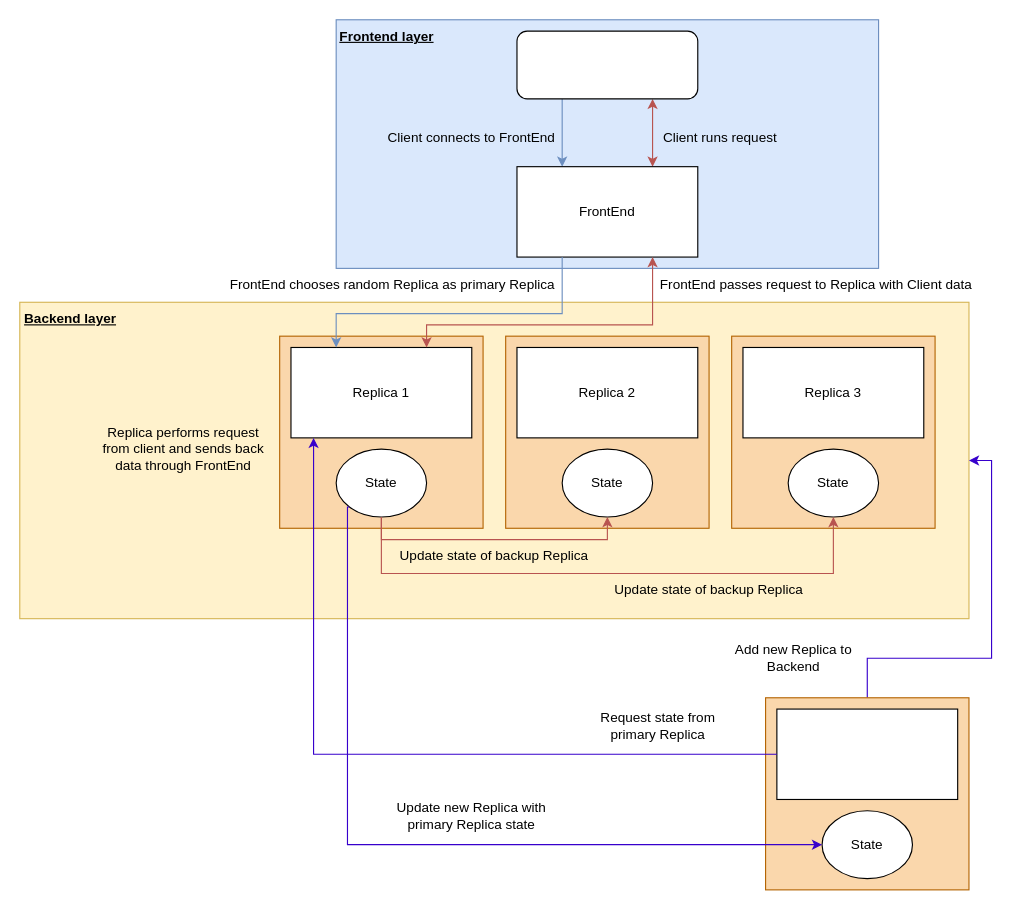
Some shapes in this 1020 by 910 pixel diagram are drawn without their labels. The centre of each missing label's shape, as x and y in pixels:
"Client" belongs at (x=607, y=64).
"Replica 4" belongs at (x=867, y=753).
